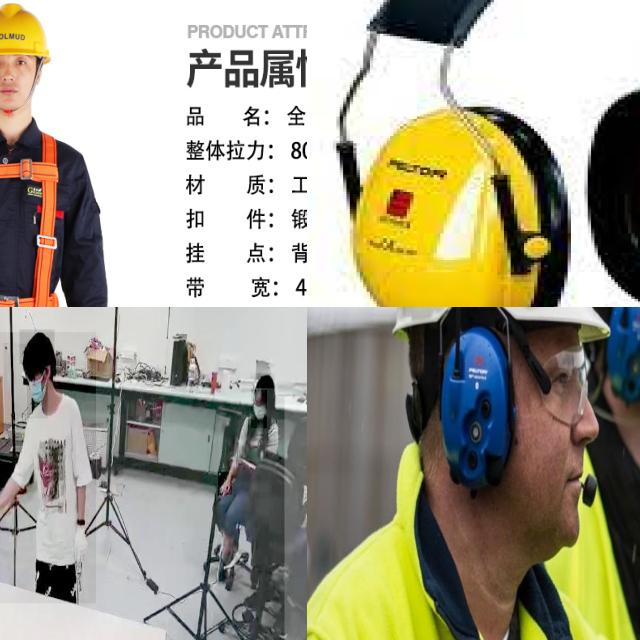Ear-protection: (340, 0, 640, 307), (436, 307, 514, 489), (609, 307, 640, 404)
Harness: (0, 109, 86, 307)
face_mask: (27, 368, 47, 418), (251, 390, 267, 428)
glasses: (535, 344, 597, 429)
hand_glove: (69, 523, 89, 568)
hand_noglove: (218, 472, 232, 496)
head_helmet: (388, 307, 609, 362)
head_nohelmet: (19, 330, 55, 365), (255, 373, 275, 388)
person: (0, 332, 96, 604), (210, 375, 298, 590), (284, 396, 307, 640)
